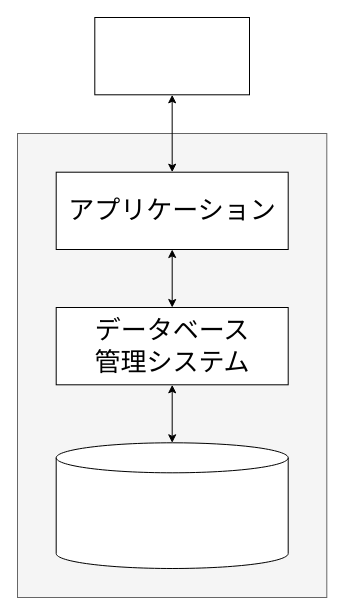
The diagram is 345 pixels wide and 615 high, and some of its shapes have lost their labels. The centre of each missing label's shape, as x and y in pixels:
データベース: the point at 171,505
ユーザー: the point at 172,55
